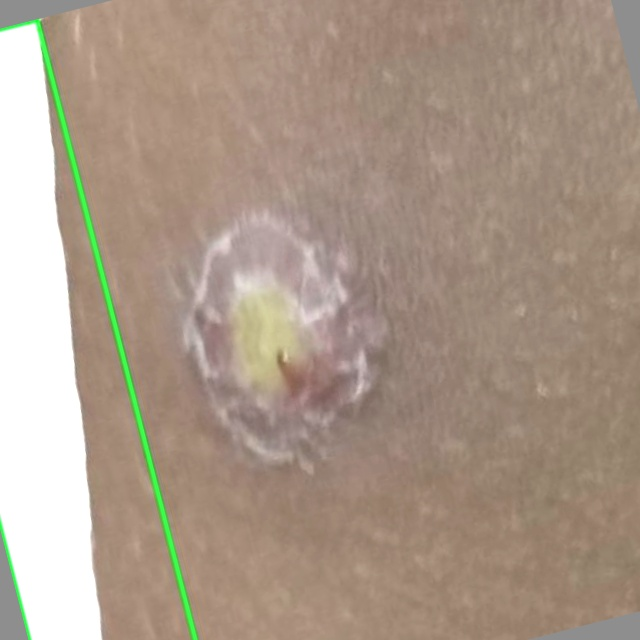Scabies: (0, 20, 195, 639)
